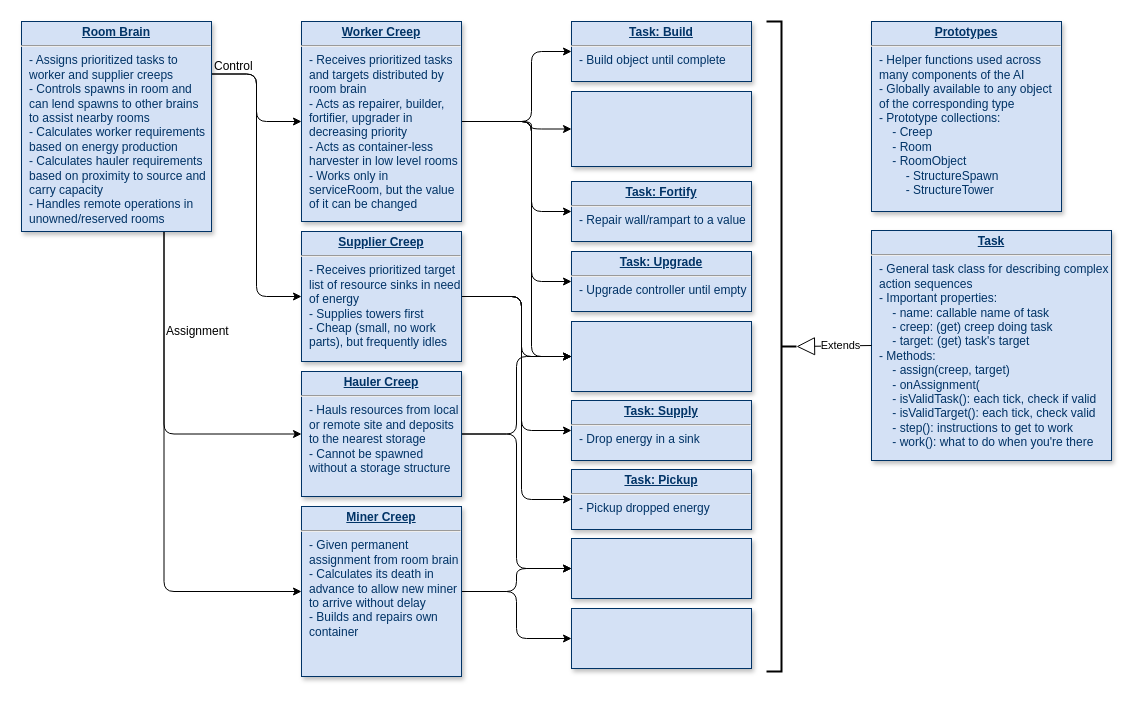
Image size: 1135x701. Some labels were removed from this diagram. The centre of each missing label's shape, as x and y in pixels:
"Task: Deposit - Drop energy in a container/storage/link" belongs at pixel 662 570.
"Task: Harvest - Harvest energy until full" belongs at pixel 662 640.
"Task: Recharge - Withdraw energy from nearest container or storage" belongs at pixel 662 357.
"Task: Repair - Repair object until full HP - Ignores walls and ramparts" belongs at pixel 662 130.
